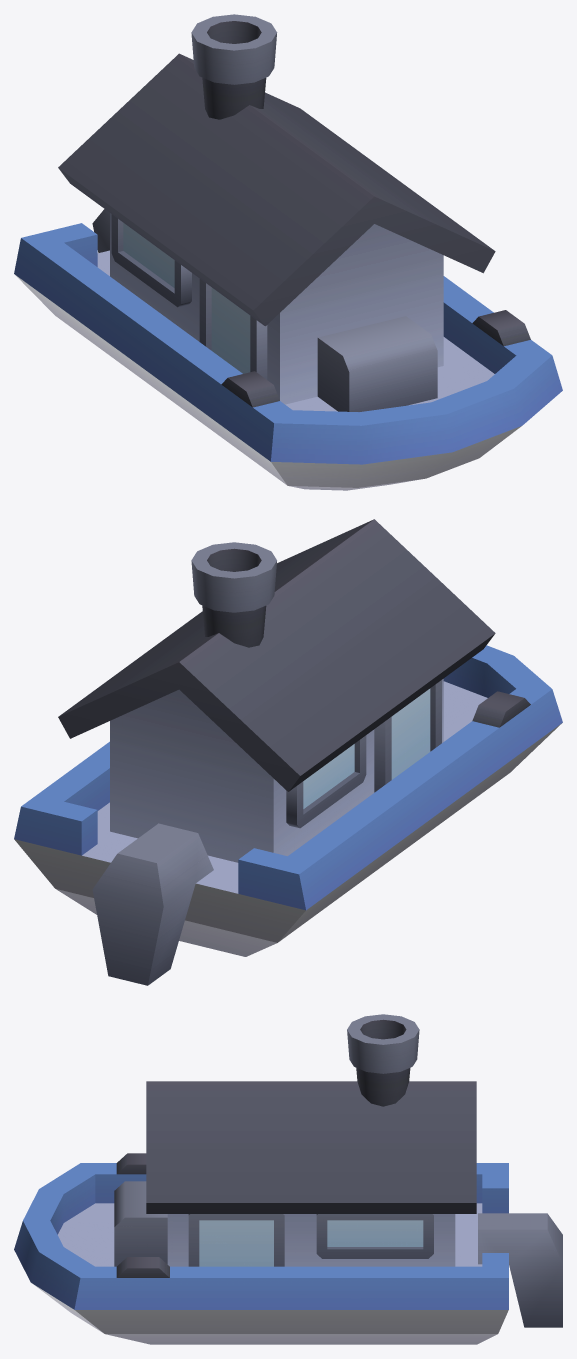
Rendered from boat-house-c-transformed.glb.
3 renders of one model, top to bottom at view 1: azimuth 30°, elevation 25°; view 2: azimuth 150°, elevation 25°; view 3: azimuth 270°, elevation 25°, orthographic. The views are drawn at different scales.
Visible parts, largest first — view 1: boat-house-c; view 2: boat-house-c; view 3: boat-house-c.
Part boxes in pixels (<box>): boat-house-c: <box>14,14,562,490</box>; boat-house-c: <box>14,519,562,985</box>; boat-house-c: <box>14,1014,562,1344</box>.
Bounding box in the file's own units: 2.68 × 3 × 5.15.
Materials: 1 (1 with a texture image).
